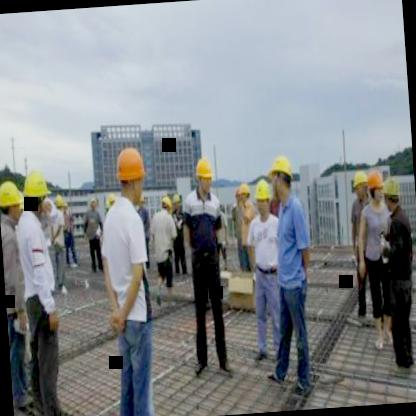helmet: (113, 139, 150, 206), (266, 148, 298, 204), (22, 164, 51, 219), (0, 178, 25, 225), (191, 150, 217, 195), (380, 176, 404, 210), (252, 180, 273, 218), (366, 168, 385, 210), (350, 168, 368, 205), (158, 192, 174, 221), (237, 181, 252, 206), (52, 190, 64, 214), (106, 188, 116, 206)
